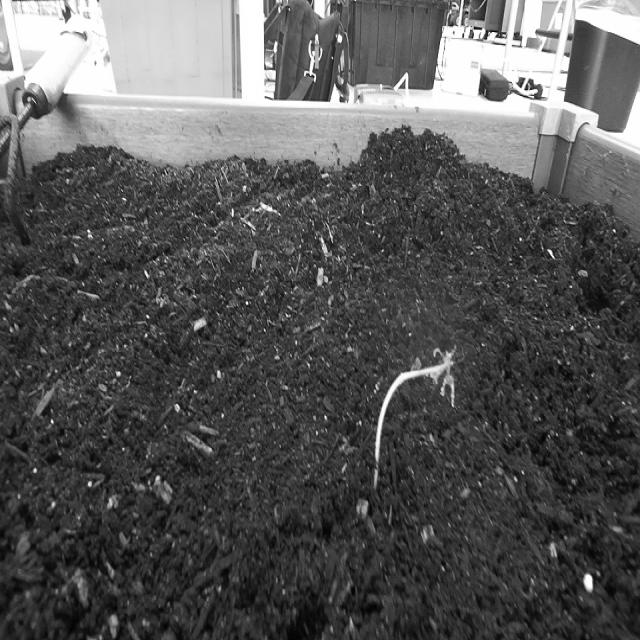Unhealthy: (362, 324, 472, 508)
